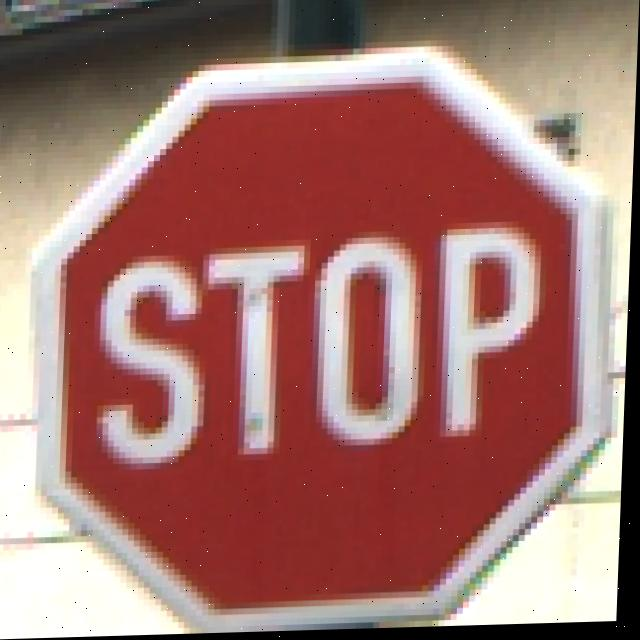stop: (30, 48, 621, 627)
